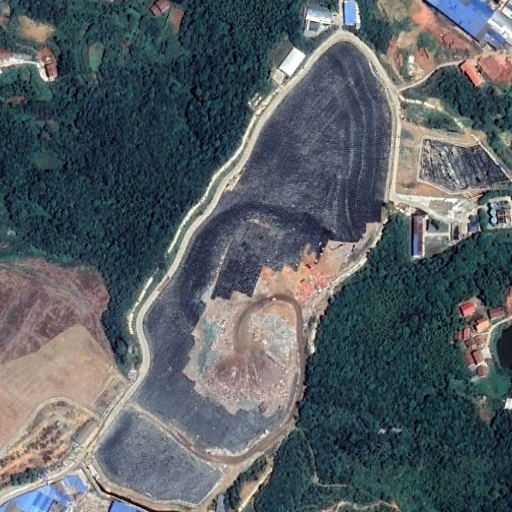lf: (94, 33, 394, 506)
